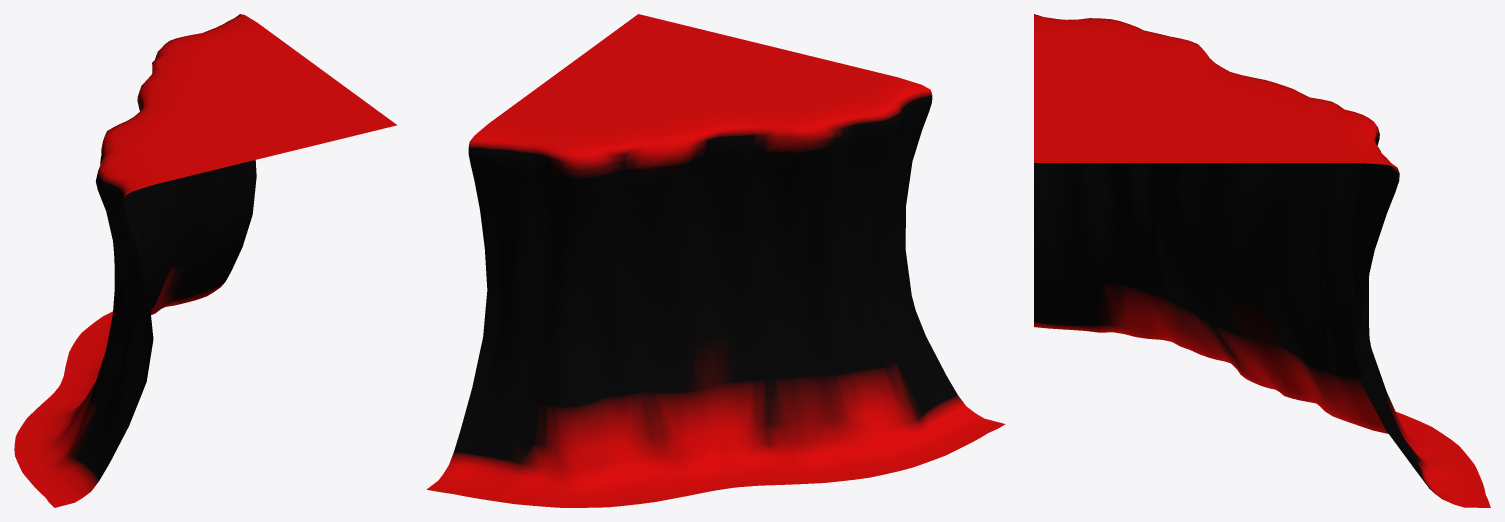
Rendered from GroundCliff03A 2M Foreground.fbx.
3 views of the same model, side by side, from view 1: azimuth 30°, elevation 25°; view 2: azimuth 150°, elevation 25°; view 3: azimuth 270°, elevation 25° (orthographic). The views are drawn at different scales.
Visible parts, largest first — view 1: GroundCliff03A 2M Foreground; view 2: GroundCliff03A 2M Foreground; view 3: GroundCliff03A 2M Foreground.
Part boxes in pixels (box(x1,y1,x2,y2)): GroundCliff03A 2M Foreground: box(14, 14, 396, 507); GroundCliff03A 2M Foreground: box(426, 14, 1005, 507); GroundCliff03A 2M Foreground: box(1034, 14, 1490, 507).
Bounding box in the file's own units: 2.4 × 2 × 2.4.
